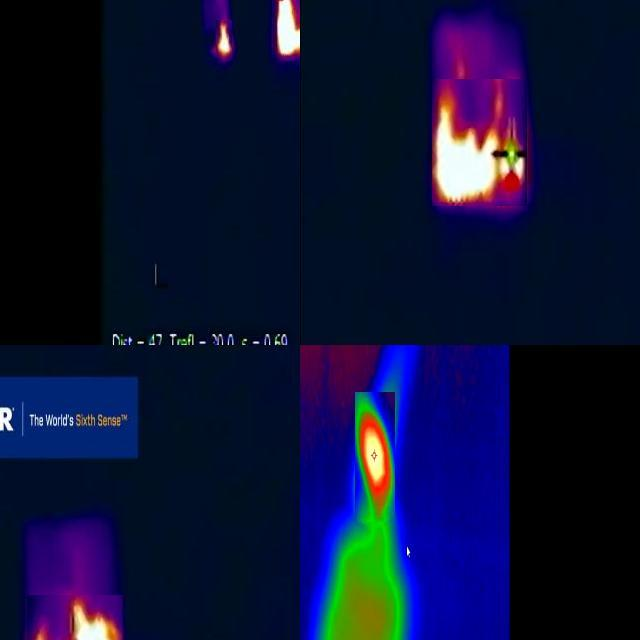fire: (432, 79, 527, 206), (355, 392, 395, 522), (27, 595, 123, 640), (273, 1, 301, 61), (216, 20, 232, 61)
